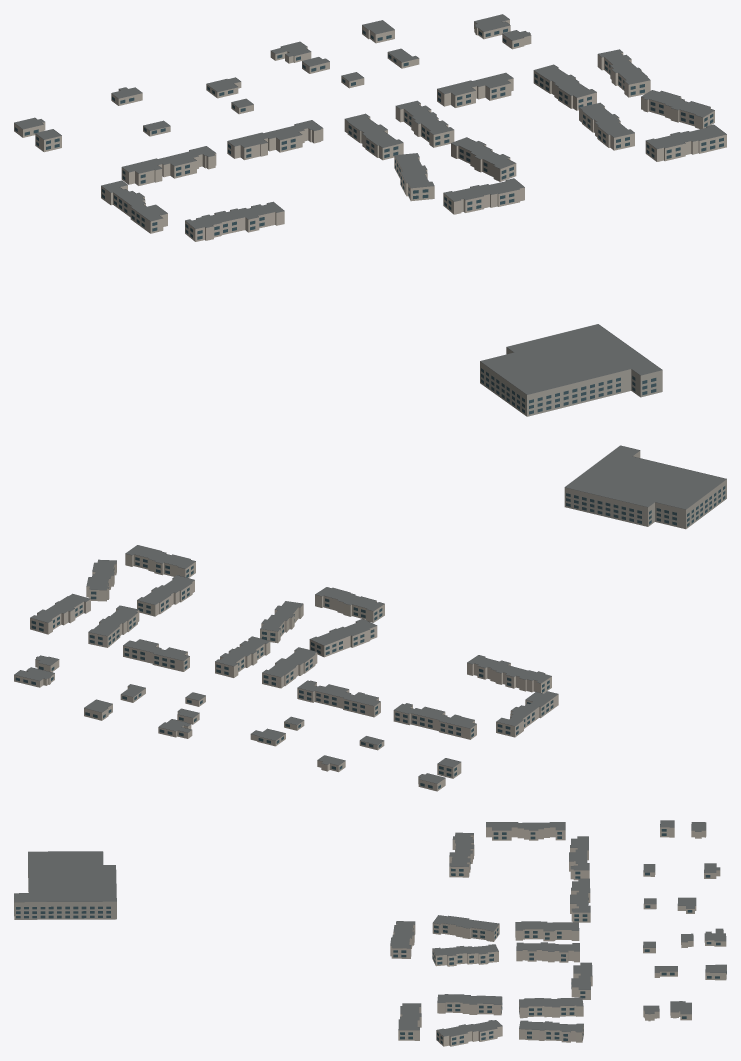
3 views of the same model, one above another, from view 1: azimuth 30°, elevation 25°; view 2: azimuth 150°, elevation 25°; view 3: azimuth 270°, elevation 25° (orthographic). The views are drawn at different scales.
Parts seen in each view (by area): view 1: Buildings (-7, -1) Roof membrane, Buildings (-7, -1) Masonry brick, Buildings (-7, -1) Architectural tinted glass, Buildings (-7, -1) Architectural concrete, Buildings (-7, -1) Metal coping; view 2: Buildings (-7, -1) Roof membrane, Buildings (-7, -1) Masonry brick, Buildings (-7, -1) Architectural tinted glass, Buildings (-7, -1) Architectural concrete, Buildings (-7, -1) Metal coping; view 3: Buildings (-7, -1) Roof membrane, Buildings (-7, -1) Masonry brick, Buildings (-7, -1) Architectural tinted glass, Buildings (-7, -1) Architectural concrete, Buildings (-7, -1) Metal coping.
Boxes of the visible parts, x1,y1,x2,y2 form: Buildings (-7, -1) Roof membrane: [14, 14, 726, 394]; Buildings (-7, -1) Masonry brick: [14, 20, 726, 241]; Buildings (-7, -1) Architectural tinted glass: [15, 28, 723, 414]; Buildings (-7, -1) Architectural concrete: [480, 347, 662, 416]; Buildings (-7, -1) Metal coping: [14, 14, 726, 394]; Buildings (-7, -1) Roof membrane: [14, 445, 726, 783]; Buildings (-7, -1) Masonry brick: [14, 551, 558, 791]; Buildings (-7, -1) Architectural tinted glass: [15, 486, 725, 788]; Buildings (-7, -1) Architectural concrete: [564, 451, 726, 529]; Buildings (-7, -1) Metal coping: [14, 445, 726, 783]; Buildings (-7, -1) Roof membrane: [14, 820, 726, 1036]; Buildings (-7, -1) Masonry brick: [390, 827, 726, 1046]; Buildings (-7, -1) Architectural tinted glass: [16, 824, 726, 1044]; Buildings (-7, -1) Architectural concrete: [14, 860, 116, 919]; Buildings (-7, -1) Metal coping: [14, 822, 726, 1036].
Size of the model in its own units: 308 by 13.48 by 434.
